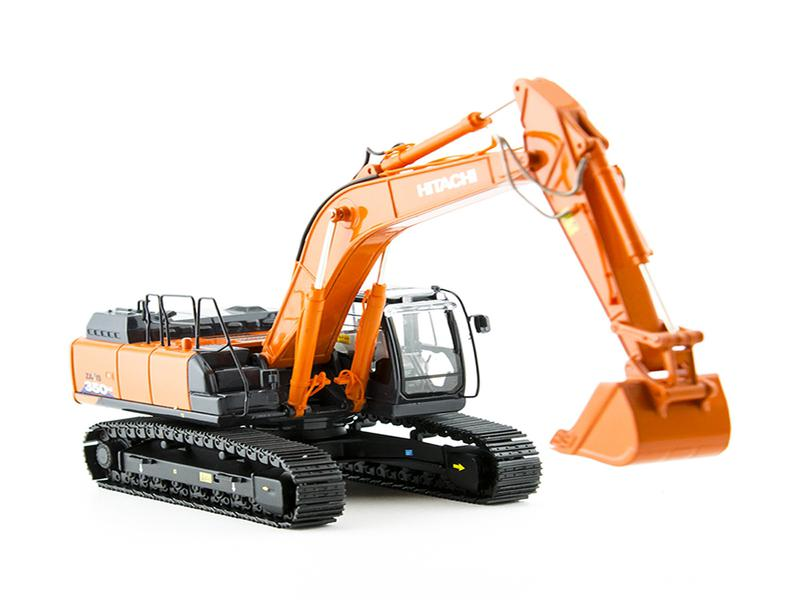shovel: (64, 59, 739, 533)
